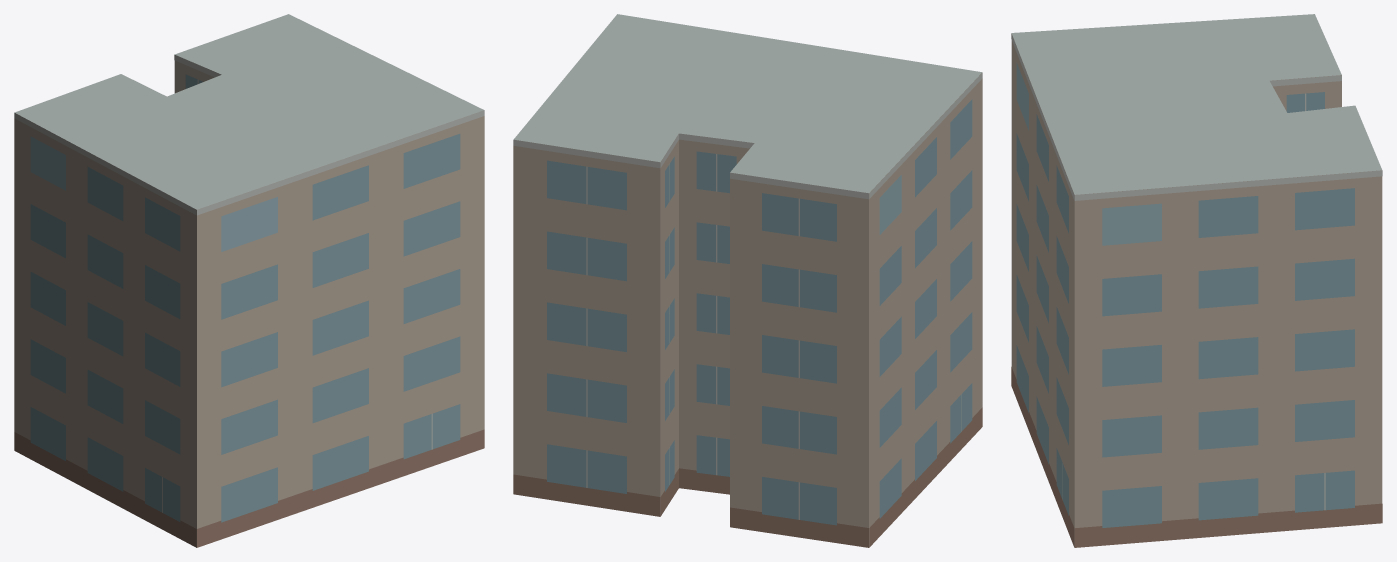
File: survey-upis-32926947.glb
The picture shows the model from 3 angles, left to right: view 1: azimuth 30°, elevation 25°; view 2: azimuth 150°, elevation 25°; view 3: azimuth 270°, elevation 25°; orthographic projection. The views are drawn at different scales.
Visible parts, largest first — view 1: survey-upis-32926947.tmp; view 2: survey-upis-32926947.tmp; view 3: survey-upis-32926947.tmp.
Boxes of the visible parts, x1,y1,x2,y2 form: survey-upis-32926947.tmp: (14, 14, 484, 547); survey-upis-32926947.tmp: (513, 14, 982, 547); survey-upis-32926947.tmp: (1011, 14, 1382, 547).
Bounding box in the file's own units: 15.73 × 14.3 × 13.63.
